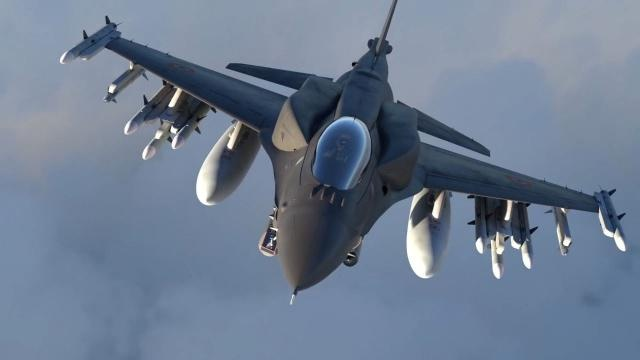airplane: (57, 3, 626, 304)
